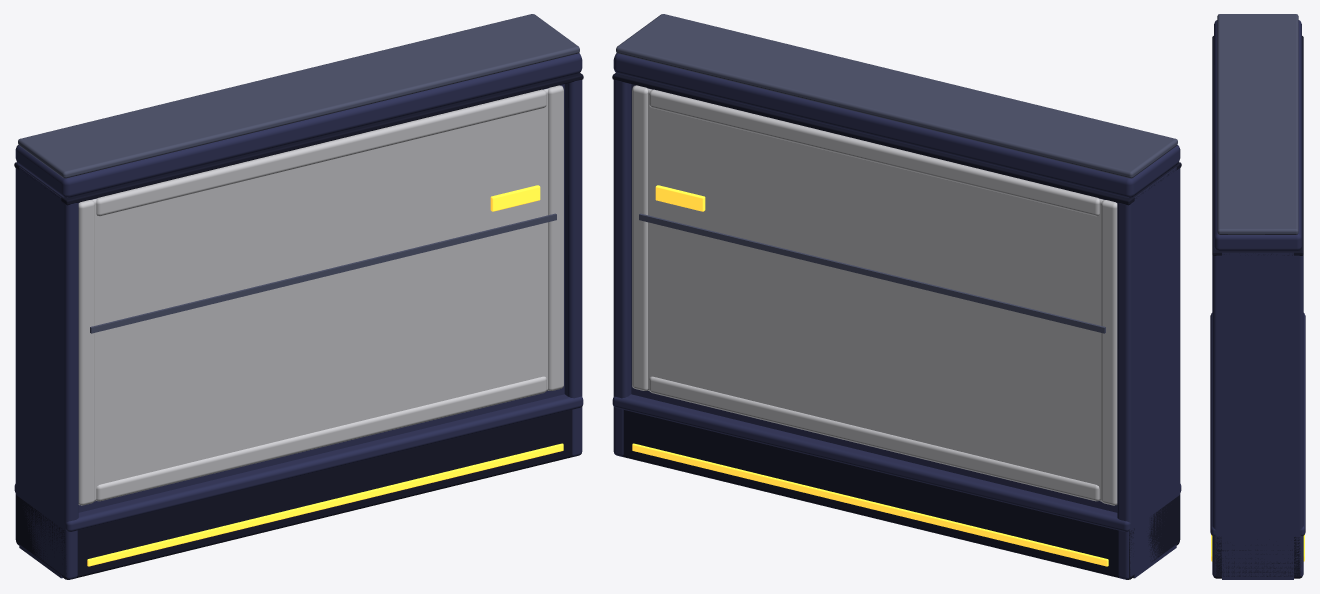
The model's file is int.halfwall.l1.5.glb.
The picture shows the model from 3 angles, left to right: view 1: azimuth 30°, elevation 25°; view 2: azimuth 150°, elevation 25°; view 3: azimuth 270°, elevation 25°; orthographic projection. The views are drawn at different scales.
Visible parts, largest first — view 1: int.halfwall.l1.5; view 2: int.halfwall.l1.5; view 3: int.halfwall.l1.5.
Part boxes in pixels (left/top/right/bottom): int.halfwall.l1.5: left=14, top=14, right=583, bottom=579; int.halfwall.l1.5: left=612, top=14, right=1181, bottom=579; int.halfwall.l1.5: left=1210, top=14, right=1305, bottom=579.
Bounding box in the file's own units: 1.51 × 1.13 × 0.278.
